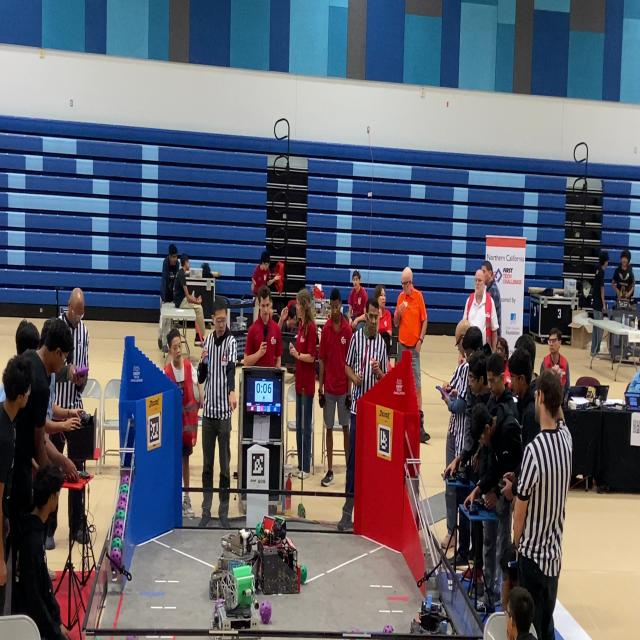artifact_green: (110, 549, 122, 571), (111, 538, 122, 550), (301, 565, 307, 584), (121, 474, 131, 484), (115, 509, 125, 519), (298, 504, 305, 518), (119, 492, 127, 503), (120, 484, 129, 493), (256, 523, 262, 536), (253, 598, 259, 610), (351, 629, 363, 634), (94, 637, 101, 639), (95, 637, 102, 639), (95, 637, 101, 639)
artifact_purple: (260, 601, 271, 623), (110, 548, 121, 567), (114, 524, 123, 537), (118, 496, 126, 509), (383, 625, 393, 634), (115, 519, 124, 528), (121, 475, 130, 484), (352, 629, 364, 634), (119, 492, 127, 499), (352, 629, 363, 634), (126, 636, 138, 639)
